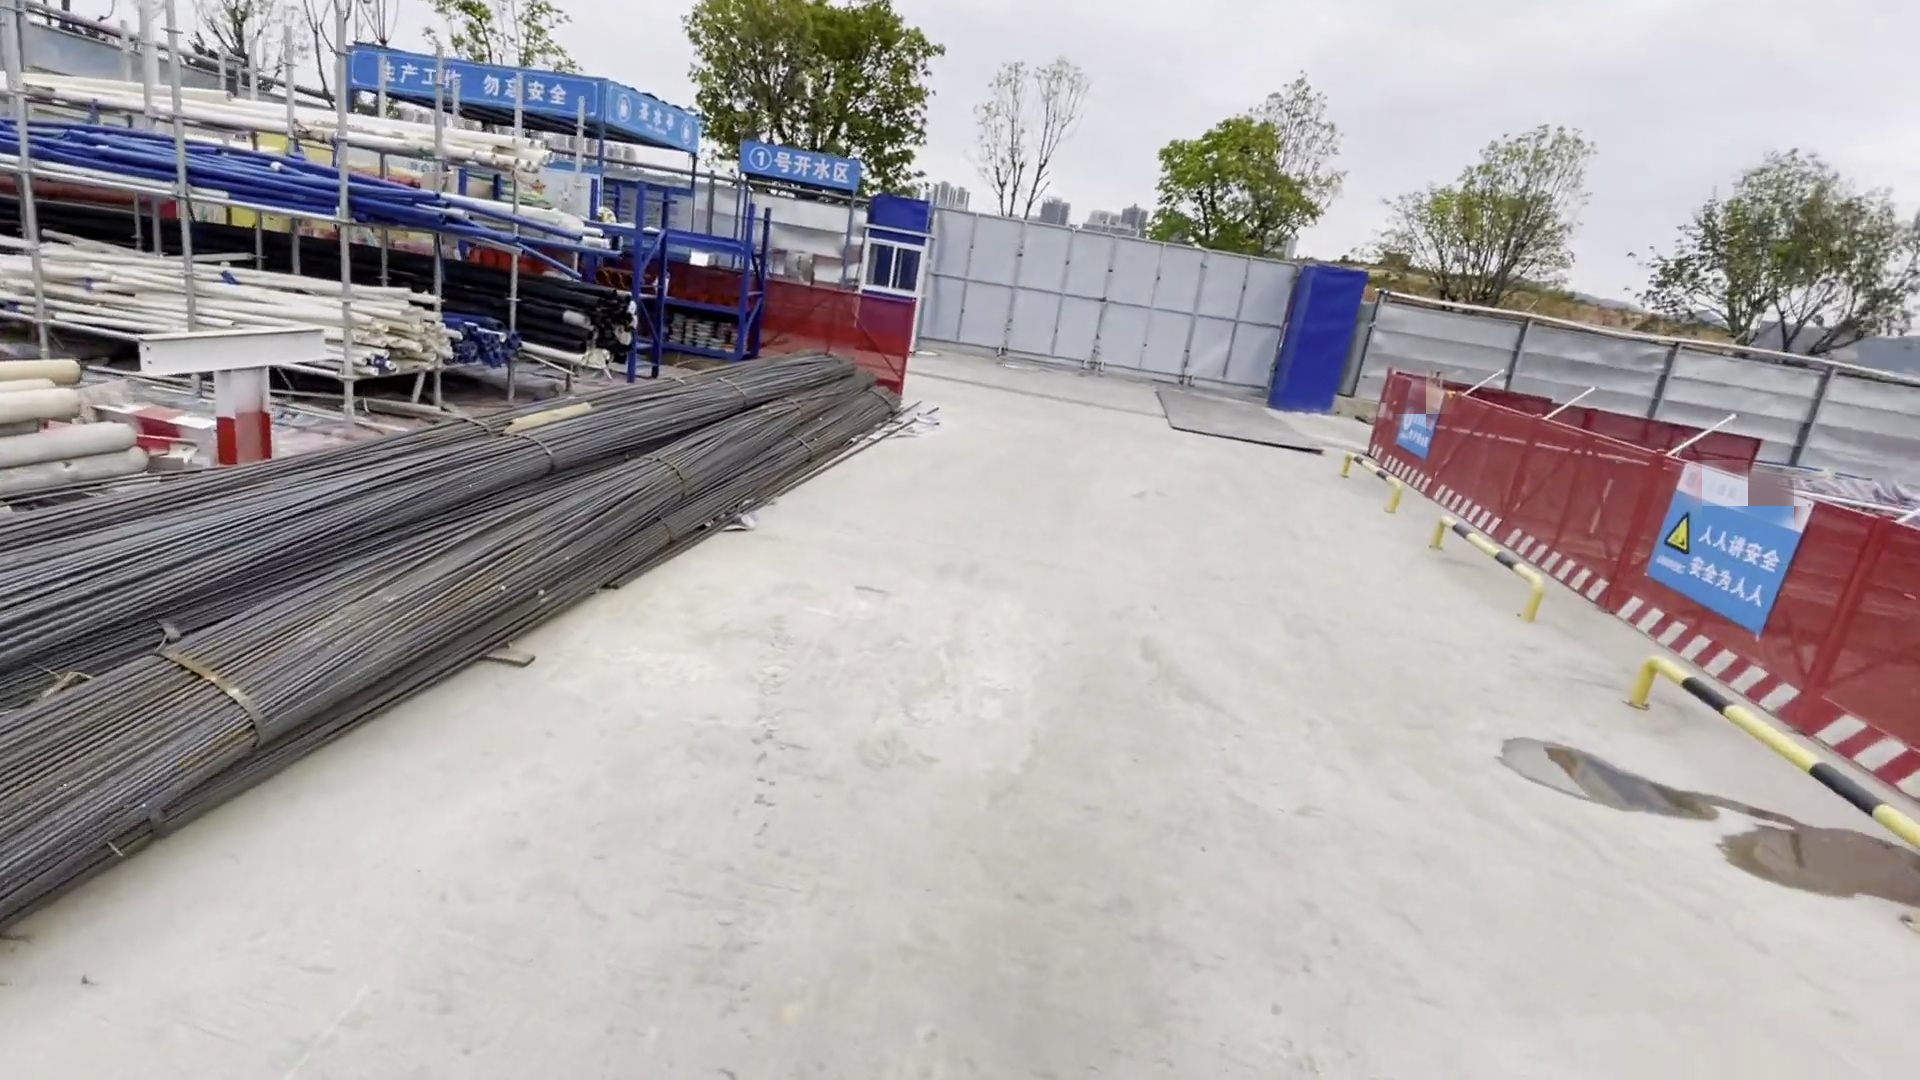fence: (1346, 373, 1920, 807), (673, 261, 909, 415)
rebar: (1, 348, 909, 938)
slogan: (1659, 498, 1776, 612), (1393, 411, 1429, 458)
